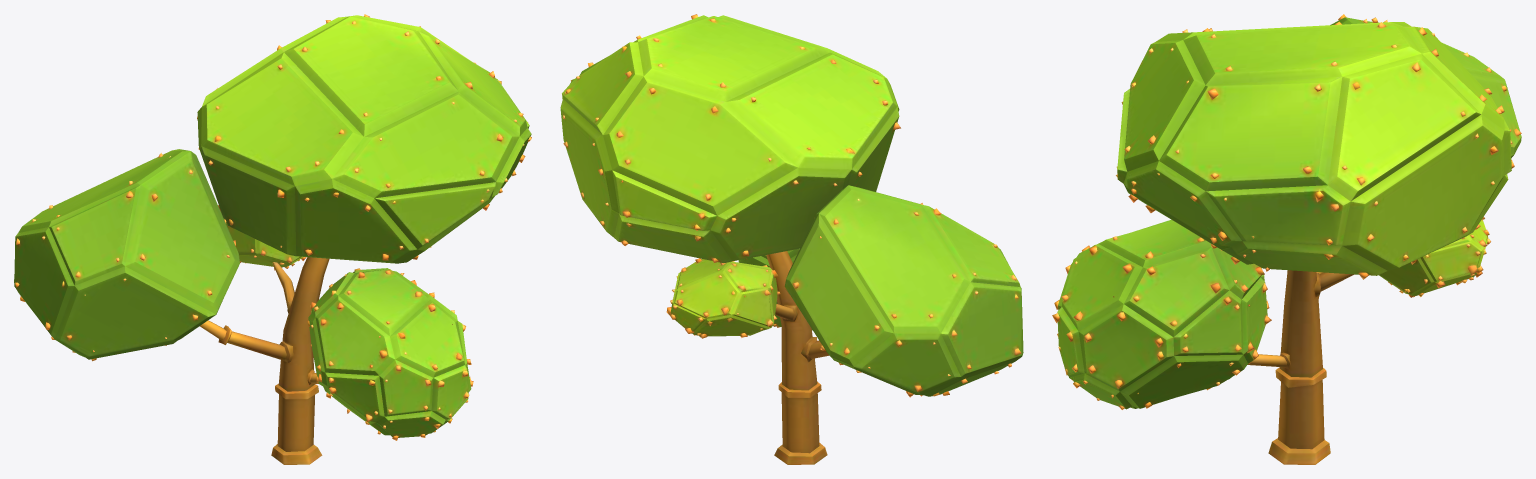
The model's file is obj_tree02_base.gltf.
The picture shows the model from 3 angles, left to right: view 1: azimuth 30°, elevation 25°; view 2: azimuth 150°, elevation 25°; view 3: azimuth 270°, elevation 25°; orthographic projection. The views are drawn at different scales.
Parts seen in each view (by area): view 1: obj_tree02_base; view 2: obj_tree02_base; view 3: obj_tree02_base.
Part boxes in pixels (box(x1,y1,x2,y2)): obj_tree02_base: box(14, 14, 531, 464); obj_tree02_base: box(560, 14, 1023, 464); obj_tree02_base: box(1052, 14, 1521, 464).
Size of what is drawn, in the model's own units: 5.04 by 4.12 by 3.76.
1 material, 1 textured.
